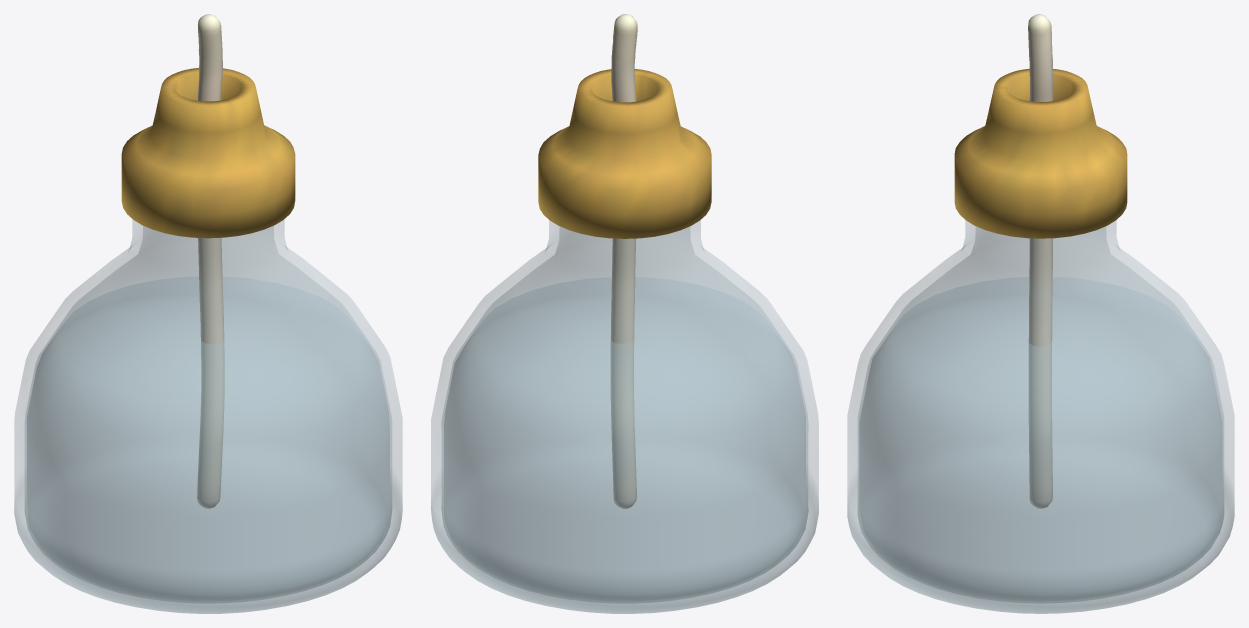
File: alcohol-burner.glb
3 renders of one model, left to right at view 1: azimuth 30°, elevation 25°; view 2: azimuth 150°, elevation 25°; view 3: azimuth 270°, elevation 25°, orthographic.
Parts seen in each view (by area): view 1: alcohol-burner-glass, alcohol-burner-inner, alcohol-burner-holder, alcohol-burner-wick; view 2: alcohol-burner-glass, alcohol-burner-inner, alcohol-burner-holder, alcohol-burner-wick; view 3: alcohol-burner-glass, alcohol-burner-inner, alcohol-burner-holder, alcohol-burner-wick.
Boxes of the visible parts, x1,y1,x2,y2 form: alcohol-burner-glass: (14, 219, 402, 613); alcohol-burner-inner: (27, 277, 389, 601); alcohol-burner-holder: (121, 68, 295, 238); alcohol-burner-wick: (197, 14, 224, 508); alcohol-burner-glass: (431, 220, 818, 613); alcohol-burner-inner: (444, 277, 805, 601); alcohol-burner-holder: (538, 69, 711, 238); alcohol-burner-wick: (610, 14, 637, 508); alcohol-burner-glass: (847, 220, 1234, 613); alcohol-burner-inner: (859, 277, 1222, 601); alcohol-burner-holder: (954, 68, 1127, 238); alcohol-burner-wick: (1028, 14, 1053, 508).
Size of what is drawn, in the model's own units: 7.4 by 11.13 by 7.39.
